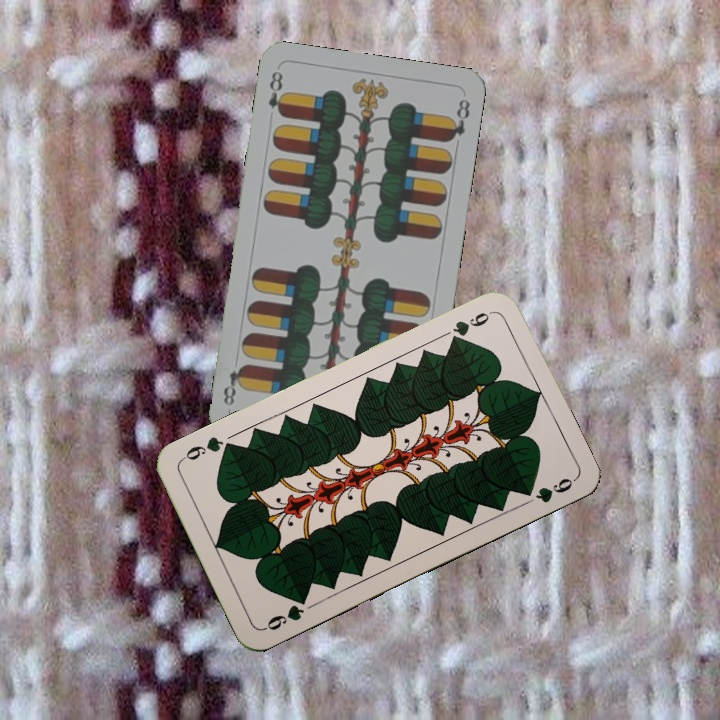E8: (264, 67, 289, 119)
G9: (259, 592, 310, 633), (446, 307, 495, 345)
